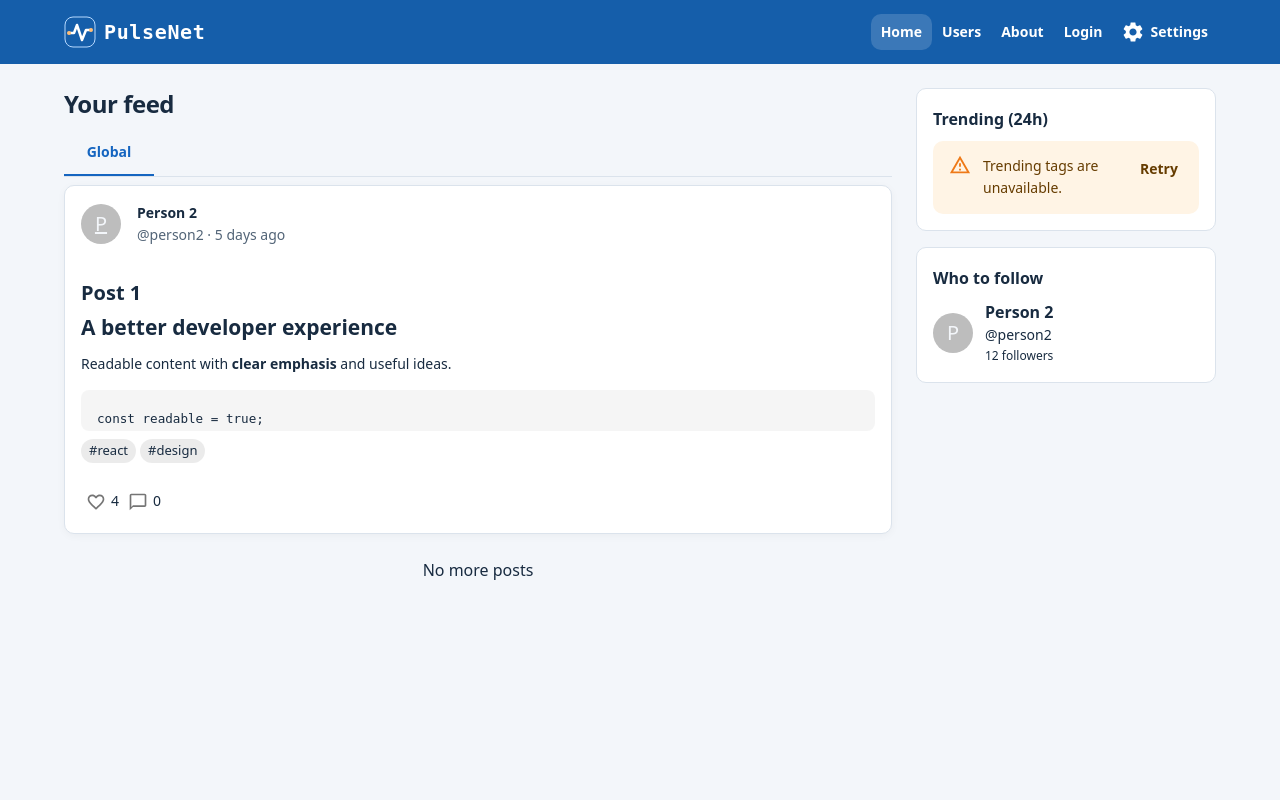
Test: frontend request recovery › lets the feed and suggestions work when trending fails, then retries trending
expect the element with test id "post-card" is shown: met, box 64,185 -> 892,534
expect the link with test id "who-to-follow" reads "Person 2": met, box 985,301 -> 1054,323
Click the button "Retry" at coordinates (1159, 170), box 1127,151 -> 1191,188
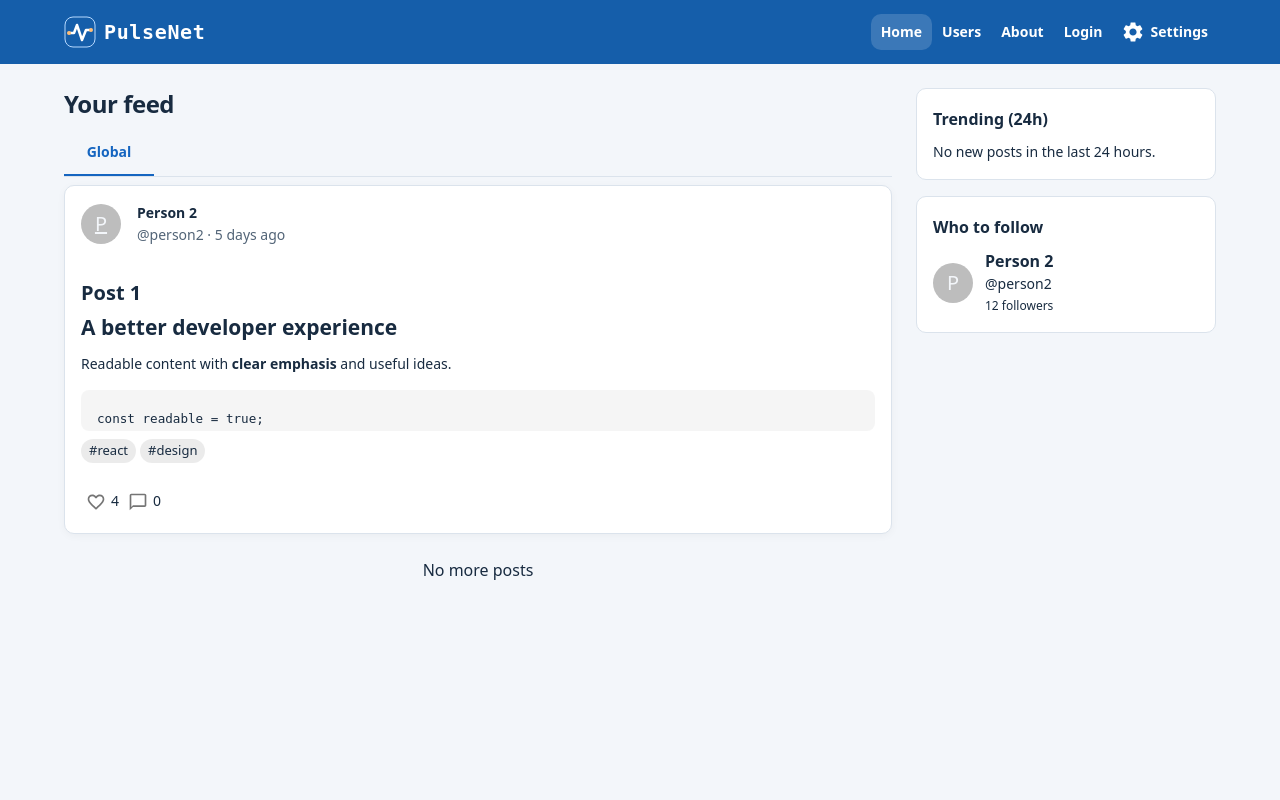
expect the text "No new posts in the last 24 hours." is shown: met, box 933,142 -> 1156,161
